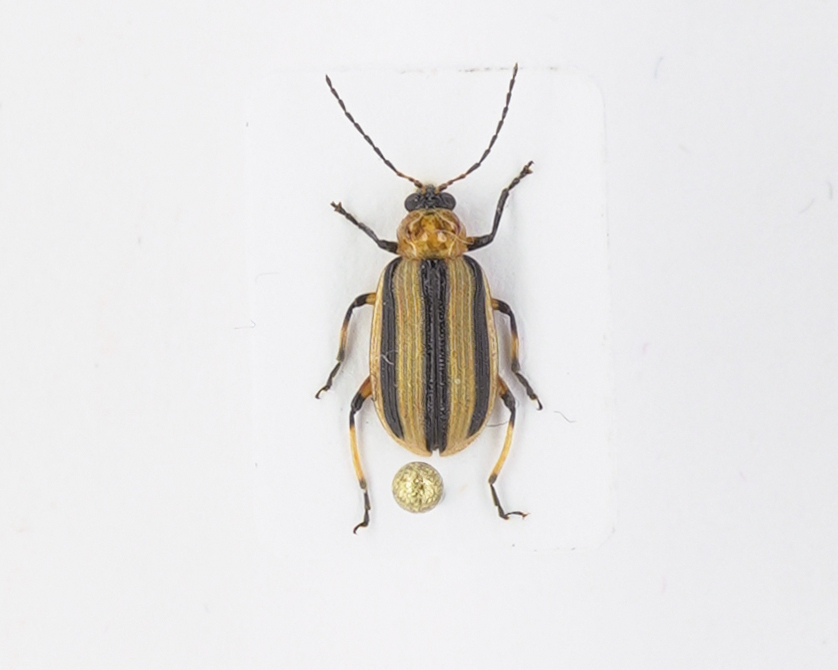potato_beetle: (185, 0, 684, 587)
